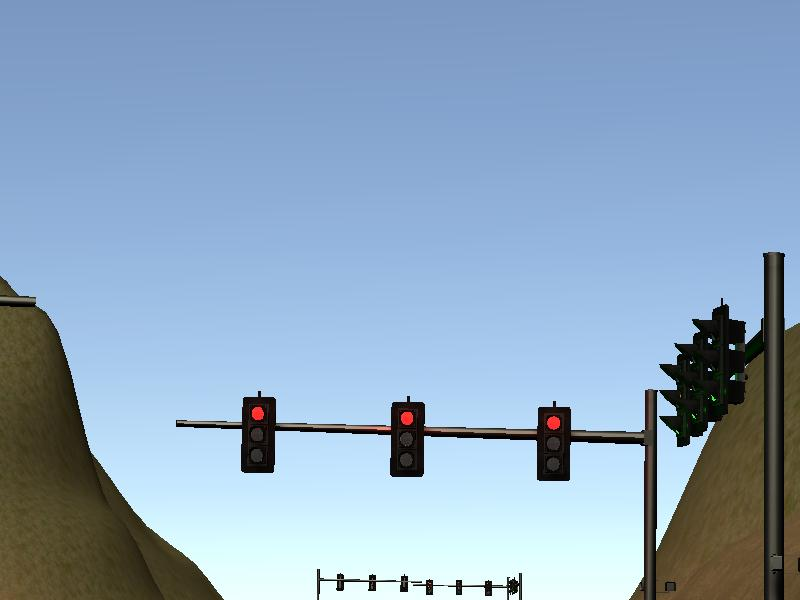red: (239, 394, 277, 474), (388, 398, 426, 478), (534, 403, 572, 483)
